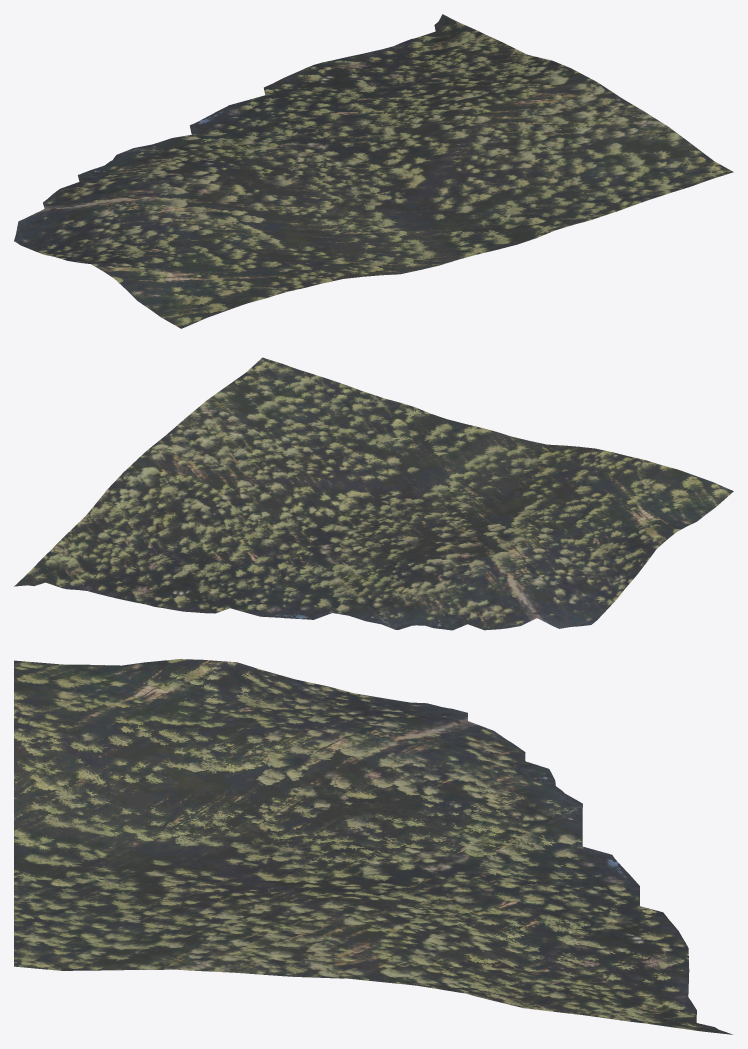
Rendered from CM_Terrain_24489639_6822865.fbx.
3 views of the same model, one above another, from view 1: azimuth 30°, elevation 25°; view 2: azimuth 150°, elevation 25°; view 3: azimuth 270°, elevation 25° (orthographic). The views are drawn at different scales.
Parts seen in each view (by area): view 1: CM_Terrain_24489639_6822865_LOD0; view 2: CM_Terrain_24489639_6822865_LOD0; view 3: CM_Terrain_24489639_6822865_LOD0.
Boxes of the visible parts, box(x1,y1,x2,y2) form: CM_Terrain_24489639_6822865_LOD0: box(14, 14, 733, 328); CM_Terrain_24489639_6822865_LOD0: box(14, 357, 733, 630); CM_Terrain_24489639_6822865_LOD0: box(14, 659, 733, 1034).
Size of what is drawn, in the model's own units: 205 by 20.56 by 187.
